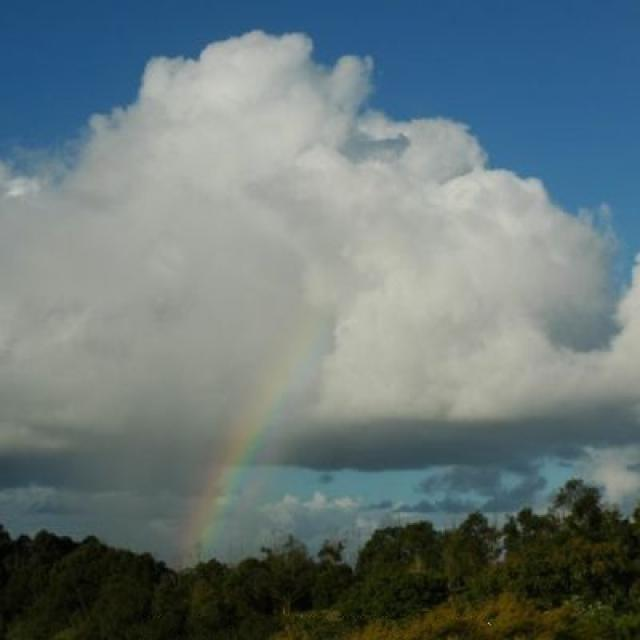Cu: (5, 54, 640, 474)
